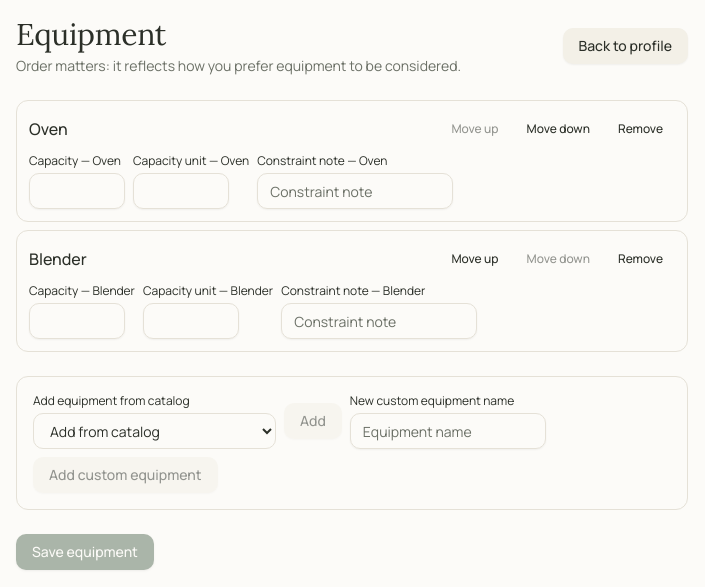
Test: ProfileEquipmentPage › save is disabled until the draft is dirty, and cancel restores the last-loaded snapshot
Expected: the button with test id "profile-equipment-save" is disabled, [16,534,154,570]
Click the button with test id "profile-equipment-remove-eq-blender" at x=640, y=259, box [606,243,675,275]
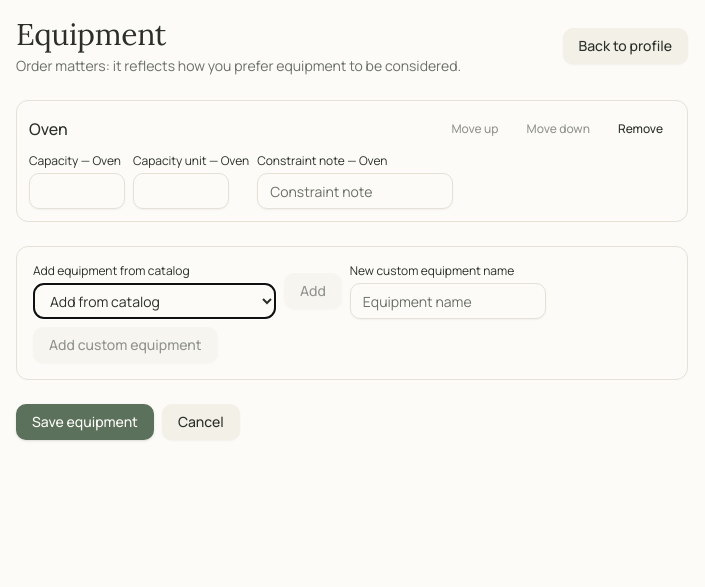
Expected: the button with test id "profile-equipment-save" is enabled, [16,404,154,440]
Click the button with test id "profile-equipment-cancel" at x=201, y=422, box [162,404,240,440]
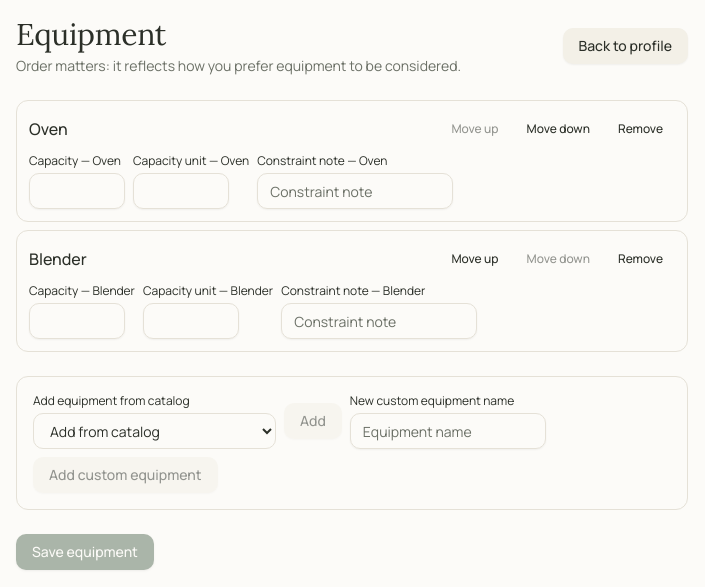
Expected: the list item with test id "profile-equipment-entry-eq-blender" is shown, [16,230,688,352]
